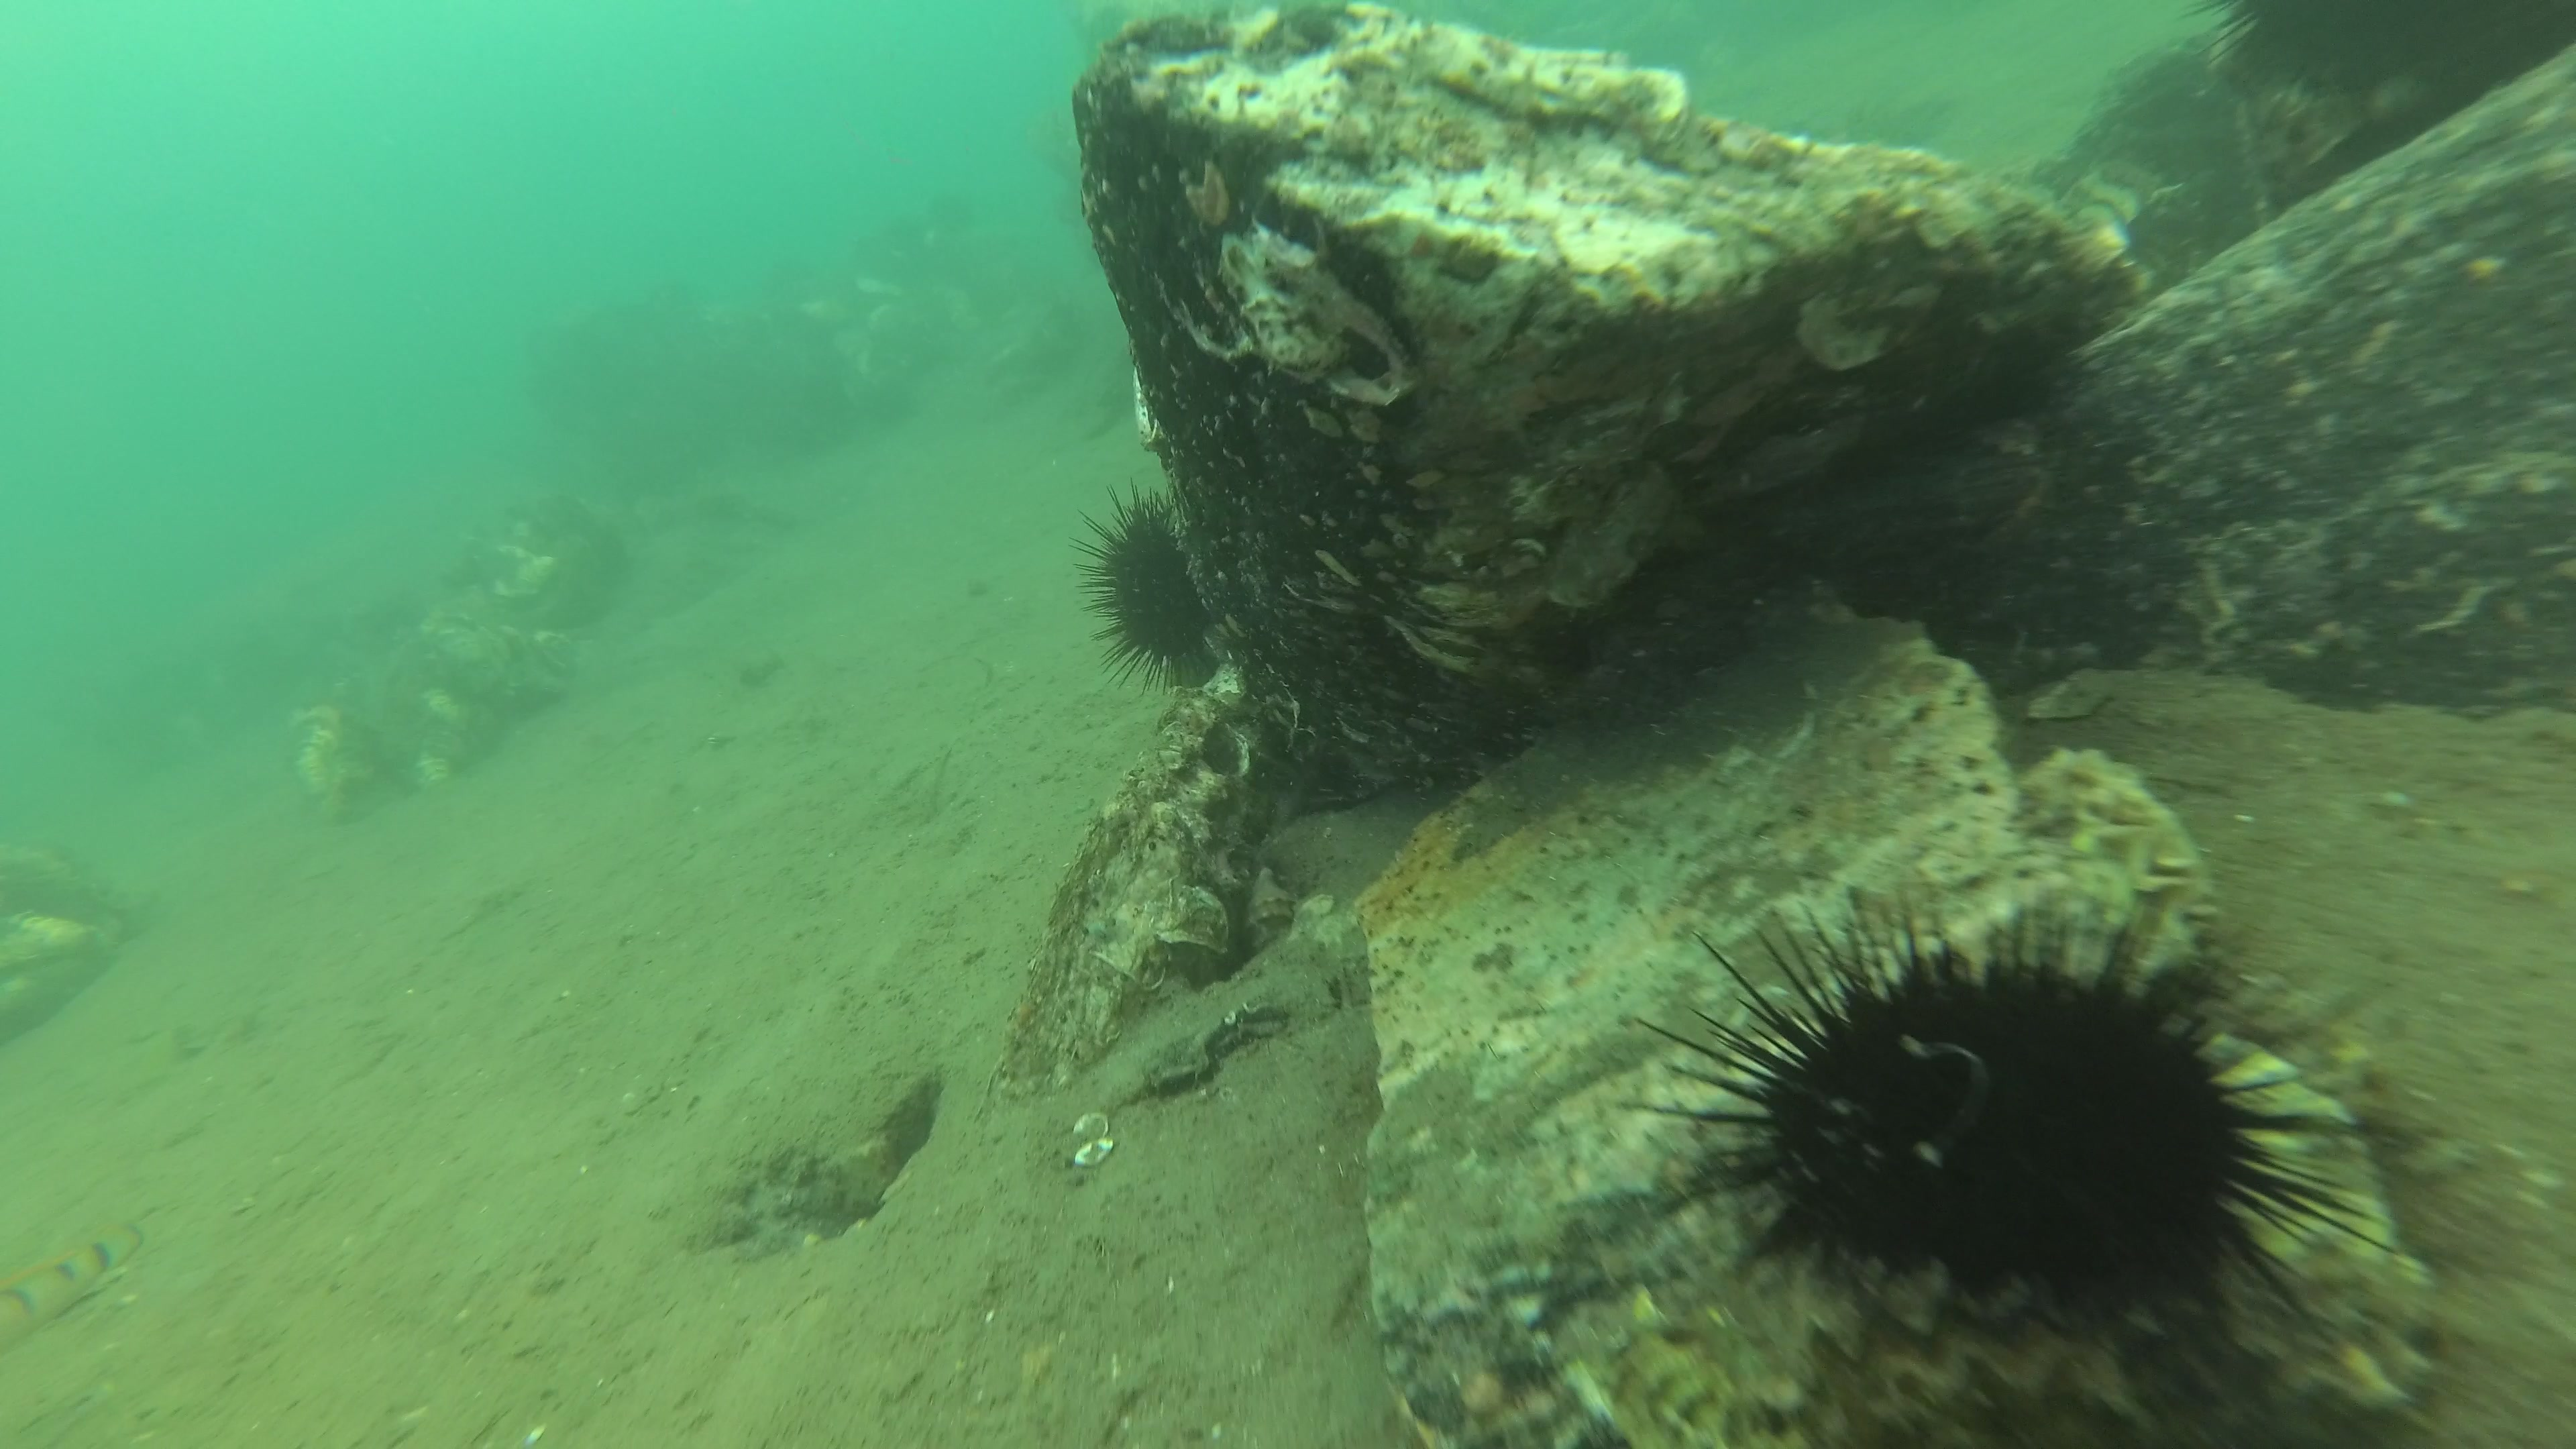echinus: (1624, 879, 2410, 1332), (1063, 472, 1226, 694), (2180, 0, 2482, 99)
